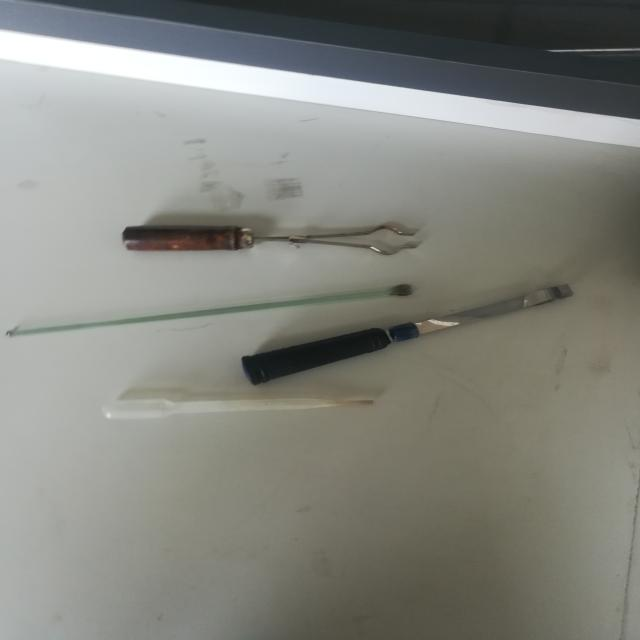Glass_Rod: (3, 275, 439, 355)
Pipette: (86, 386, 428, 449)
TestTube_Holder: (225, 270, 603, 392), (93, 194, 435, 275)
